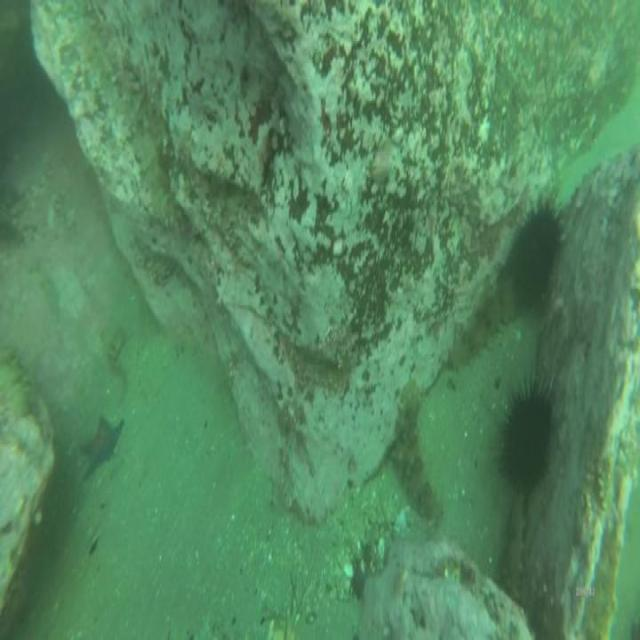echinus: (496, 378, 558, 499), (508, 195, 561, 322)
holothurian: (394, 389, 444, 528), (0, 348, 31, 416)
starfish: (78, 409, 126, 482)
